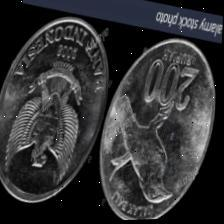coin_200_e2003: (98, 38, 215, 219), (0, 15, 110, 203)
